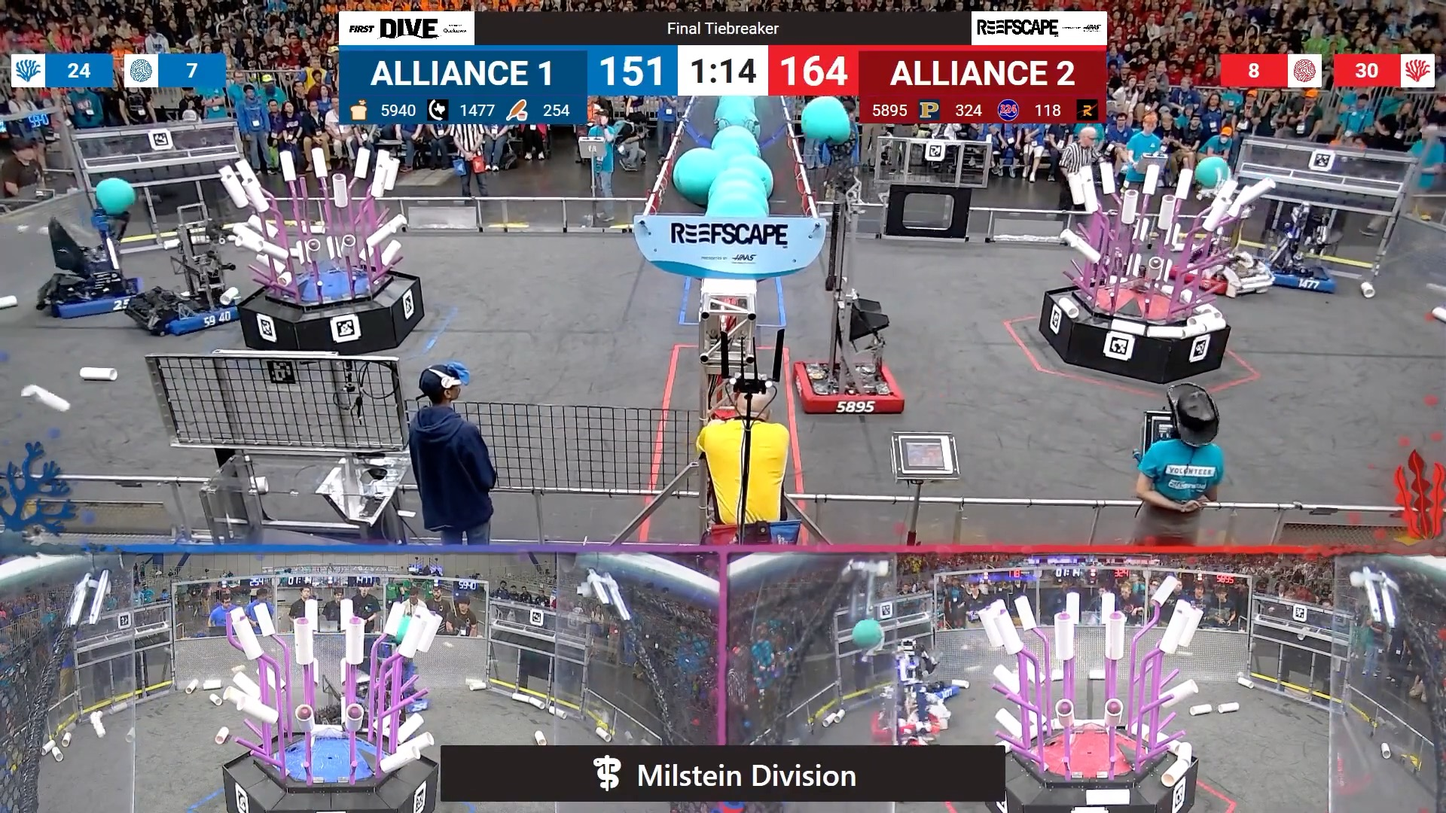bumpers: (788, 357, 913, 423), (127, 287, 245, 341), (39, 271, 149, 326), (1258, 257, 1346, 297), (867, 705, 949, 746), (884, 680, 964, 703)
